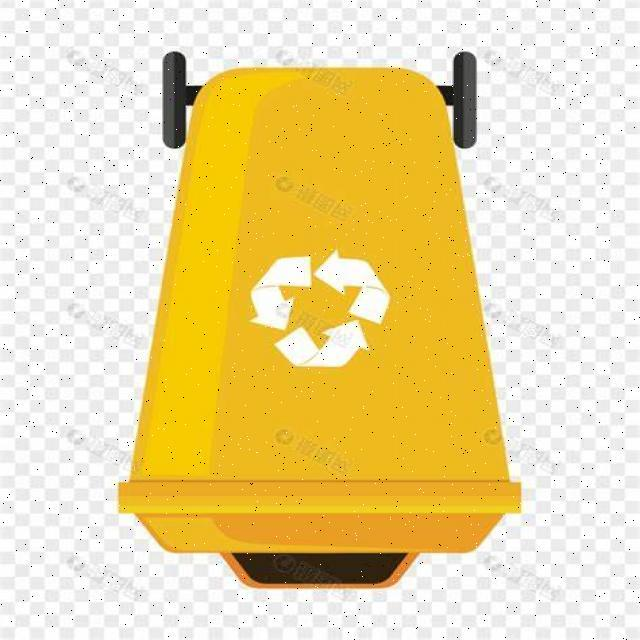garbage container: (103, 39, 540, 619)
